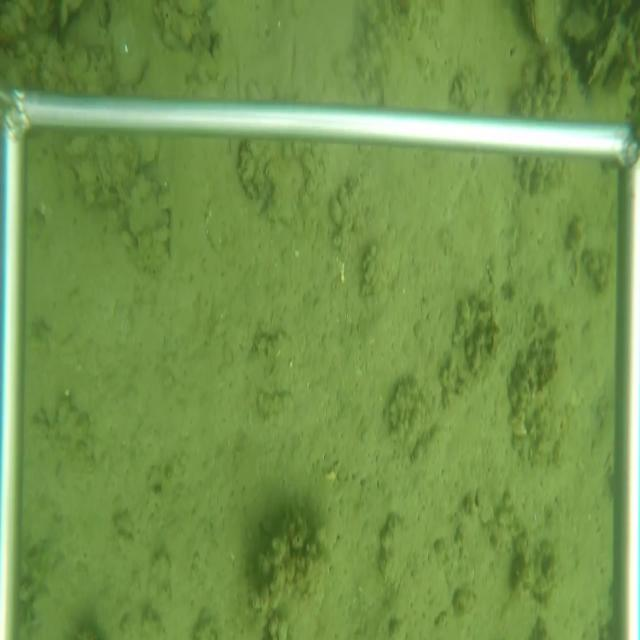Oyster-Closed: (584, 13, 628, 91), (520, 2, 561, 48)
